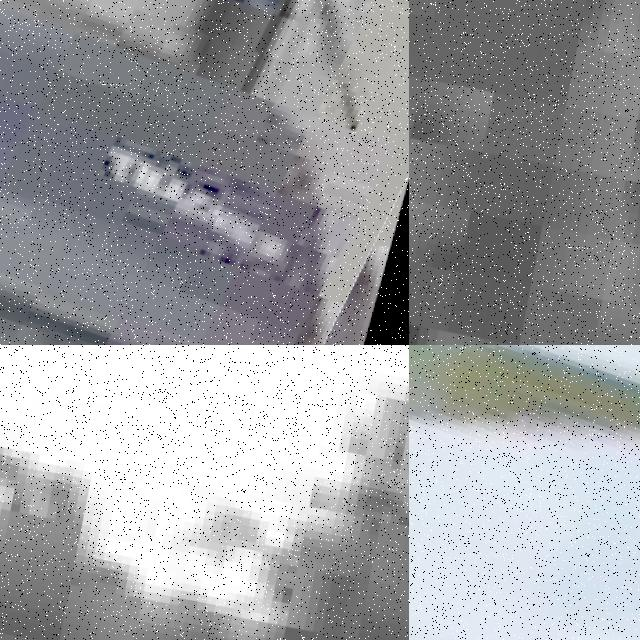0: (0, 0, 409, 345)
drone: (409, 345, 640, 640)
